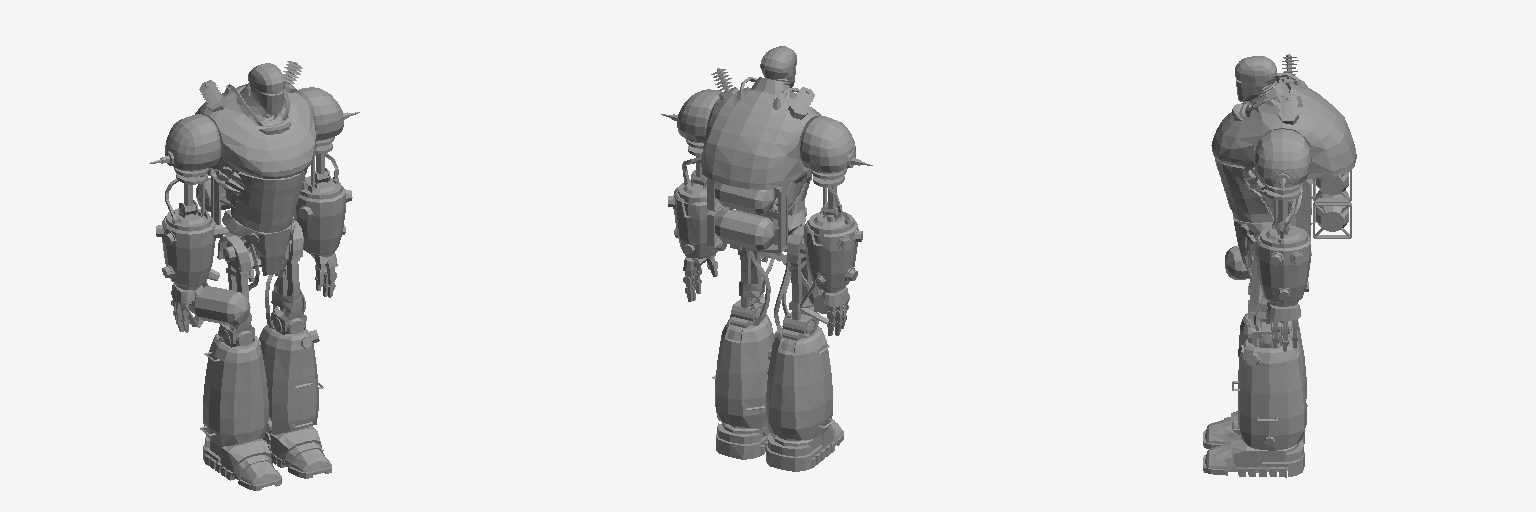
File: Liberty_Prime.obj
3 renders of one model, left to right at view 1: azimuth 30°, elevation 25°; view 2: azimuth 150°, elevation 25°; view 3: azimuth 270°, elevation 25°, orthographic.
Parts seen in each view (by area): view 1: LibertyPrimeBody, LibertyPrimeLegs; view 2: LibertyPrimeBody, LibertyPrimeLegs; view 3: LibertyPrimeBody, LibertyPrimeLegs.
Boxes of the visible parts, x1,y1,x2,y2 form: LibertyPrimeBody: [149, 61, 359, 332]; LibertyPrimeLegs: [200, 210, 331, 490]; LibertyPrimeBody: [661, 46, 872, 335]; LibertyPrimeLegs: [712, 207, 843, 471]; LibertyPrimeBody: [1211, 54, 1356, 351]; LibertyPrimeLegs: [1203, 202, 1307, 477].
Size of the model in its own units: 13.81 by 24.77 by 8.7.